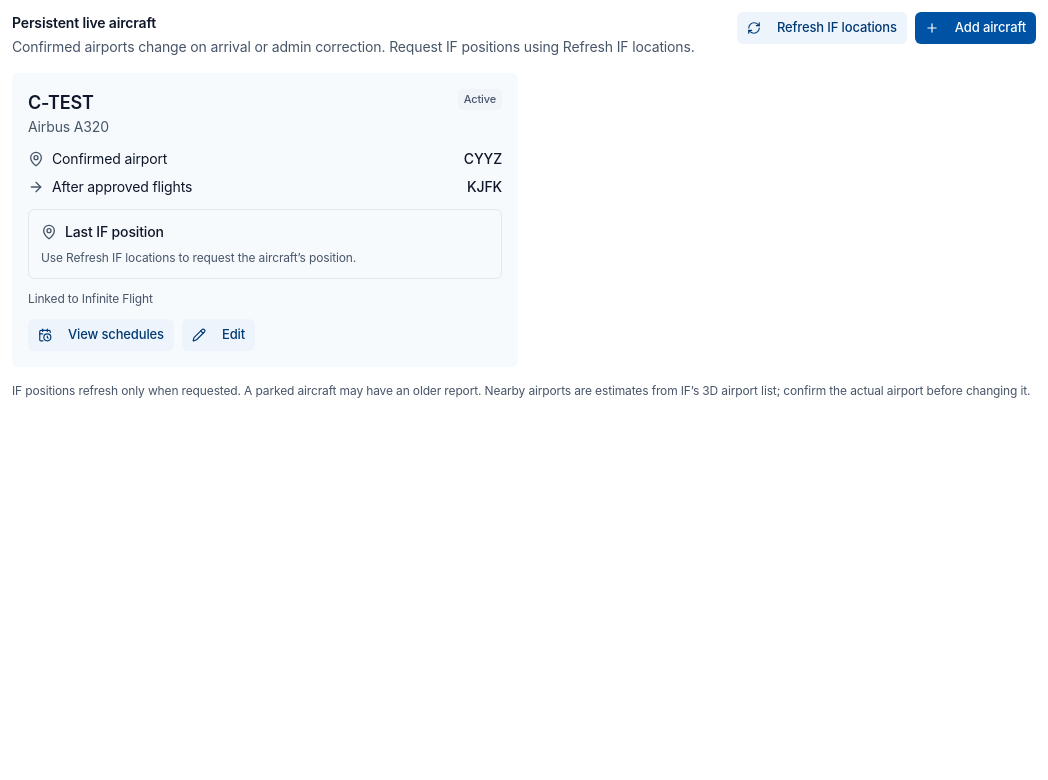
Scenario: admin-requested fleet positions › never loads positions until the admin clicks refresh, including focus/visibility events
Click the button "Refresh IF locations" at (822,28), box x1=737 y1=12 x2=907 y2=44
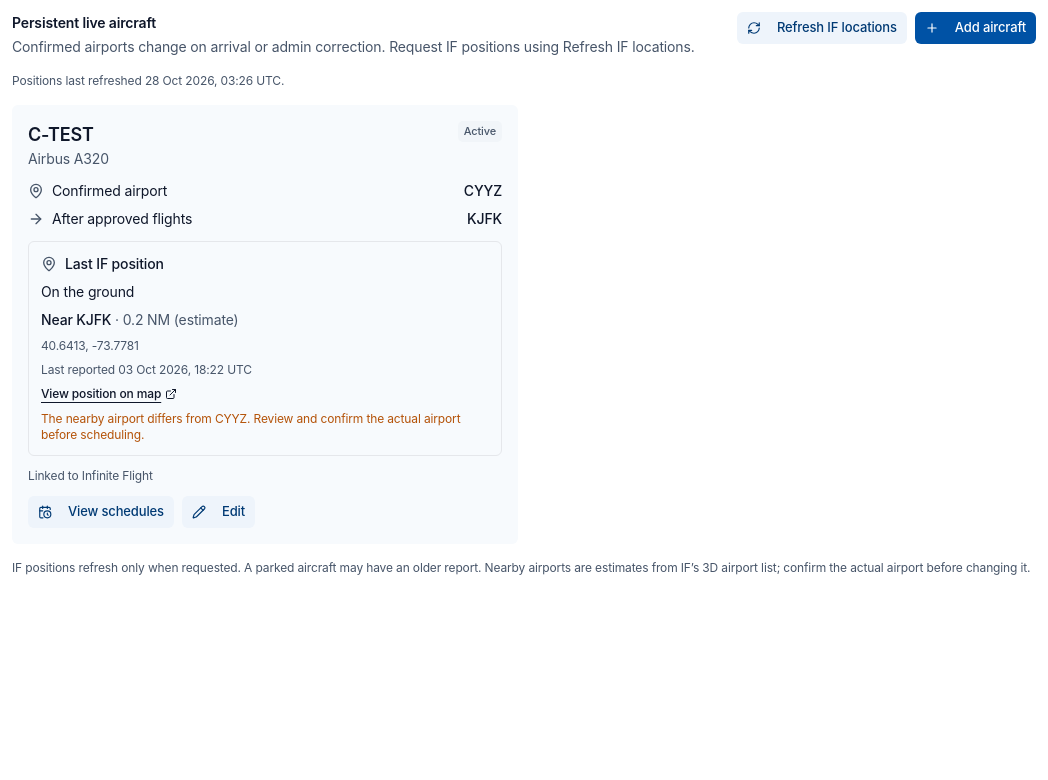
Expected: the text "Near KJFK · 0.2 NM (estimate)" is shown, x1=41 y1=311 x2=239 y2=328
Expected: the text "40.6413, -73.7781" is shown, x1=41 y1=338 x2=139 y2=353
Expected: the text "Last reported 03 Oct 2026, 18:22 UTC" is shown, x1=41 y1=362 x2=252 y2=377
